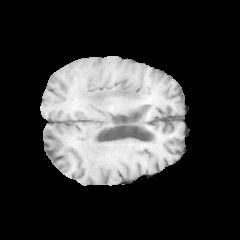glioma: (72, 72, 145, 115)
